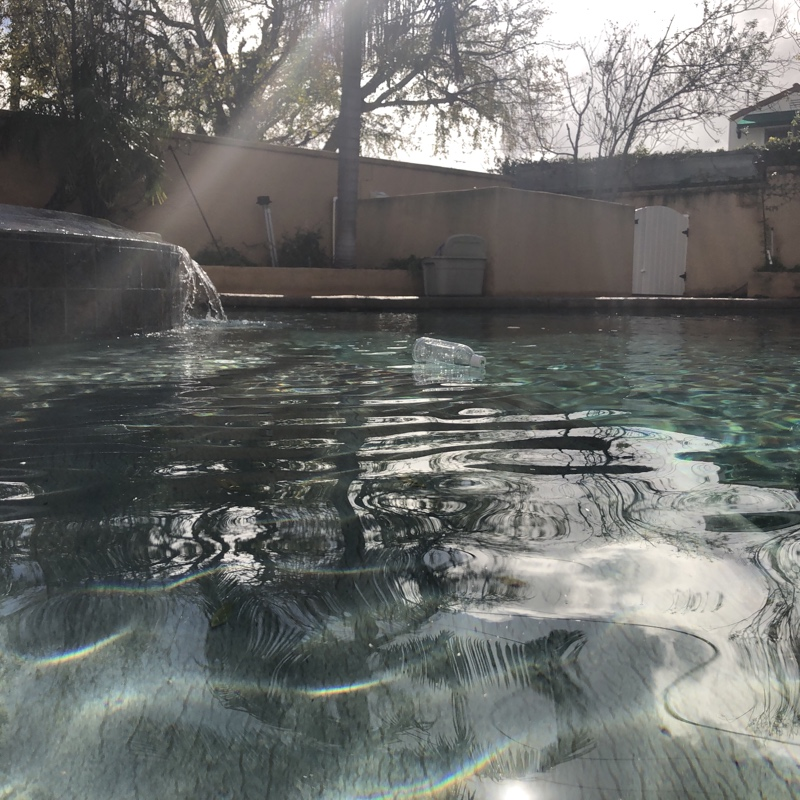Plastic Bottle: (410, 333, 490, 377)
